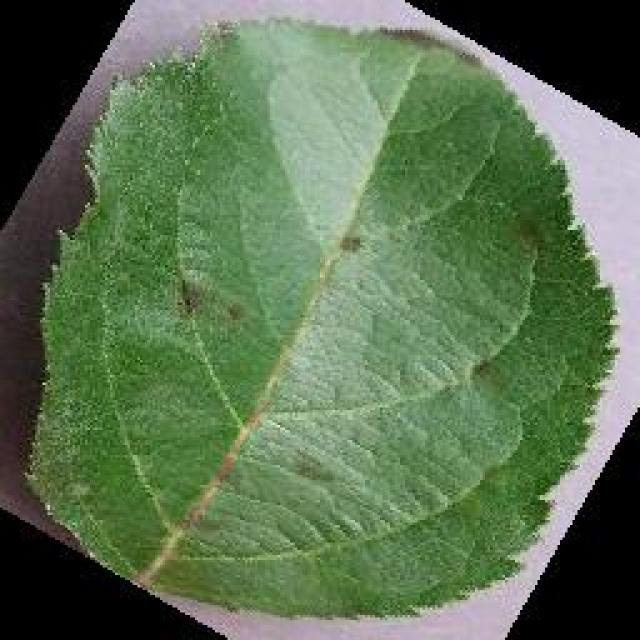apple scab disease: (20, 12, 622, 632)
